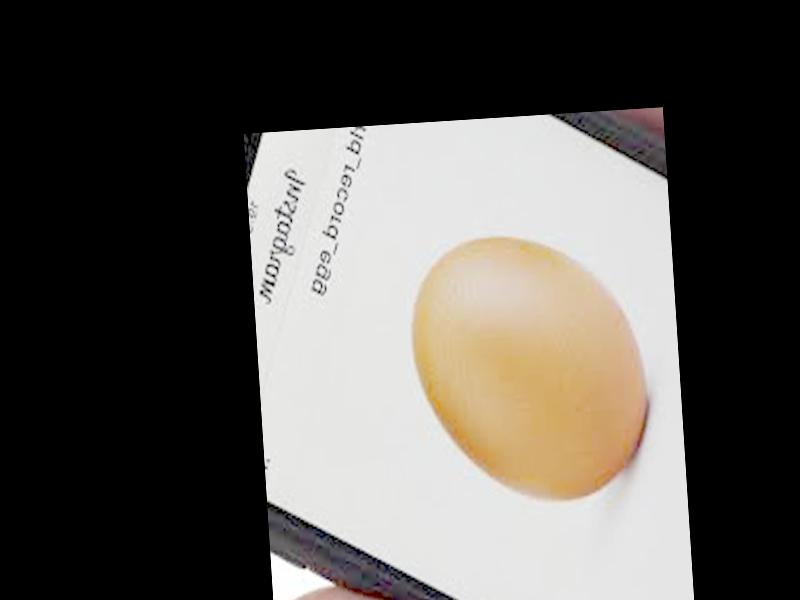Eggs: (406, 229, 652, 509)
